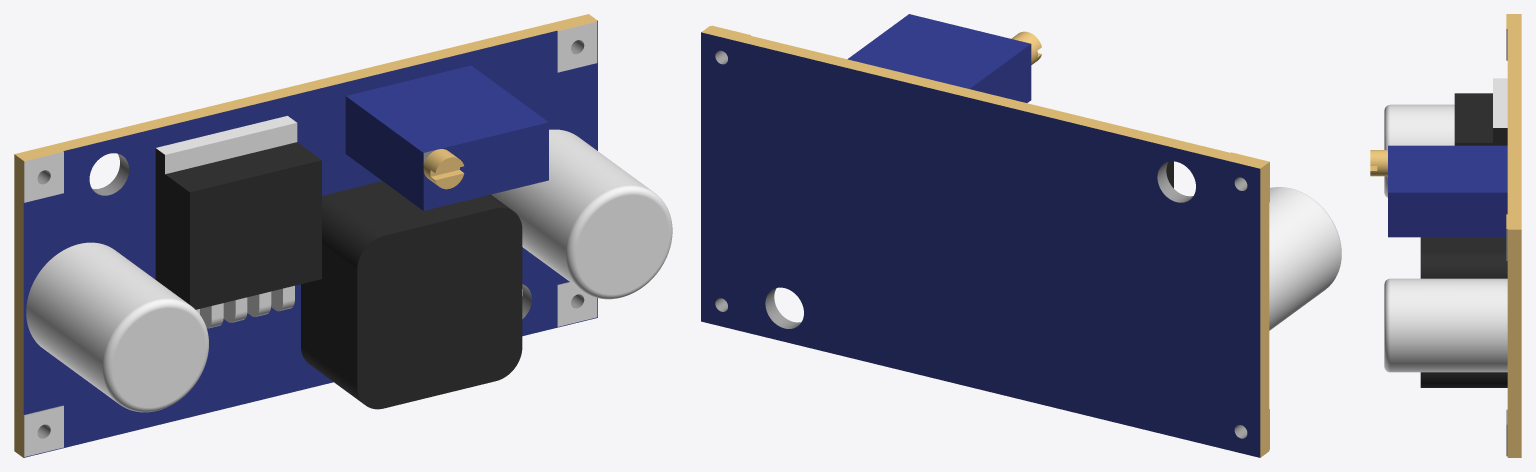
3 views of the same model, side by side, from view 1: azimuth 30°, elevation 25°; view 2: azimuth 150°, elevation 25°; view 3: azimuth 270°, elevation 25° (orthographic). The views are drawn at different scales.
Parts seen in each view (by area): view 1: Body1; view 2: Body1; view 3: Body1.
Part boxes in pixels (x1=…): Body1: x1=14, y1=14, x2=672, y2=457; Body1: x1=701, y1=14, x2=1341, y2=457; Body1: x1=1370, y1=14, x2=1521, y2=457.
Bounding box in the file's own units: 43.5 × 21.5 × 12.9.
